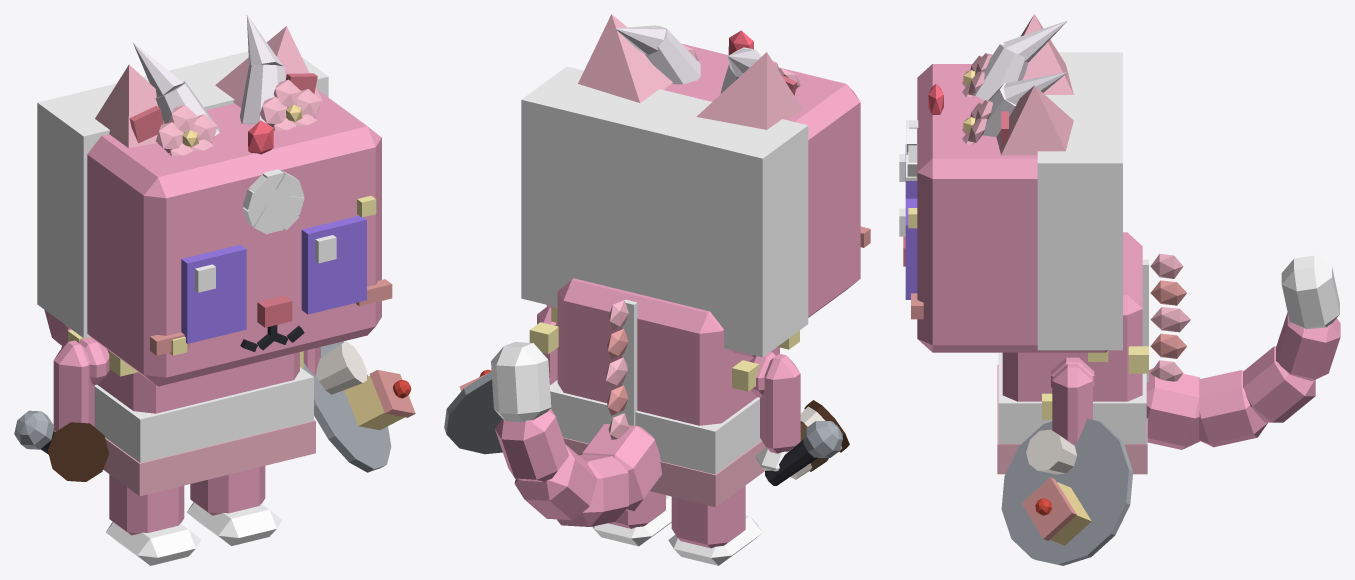
The model's file is CatCafe_Cat_PetalDragon_Work.glb.
The picture shows the model from 3 angles, left to right: view 1: azimuth 30°, elevation 25°; view 2: azimuth 150°, elevation 25°; view 3: azimuth 270°, elevation 25°; orthographic projection. The views are drawn at different scales.
Parts seen in each view (by area): view 1: CatCafe_Cat_PetalDragon_Work_Head, CatCafe_Cat_PetalDragon_Work_Body, CatCafe_Cat_PetalDragon_Work_Prop, CatCafe_Cat_PetalDragon_Work_Held_Waiter, CatCafe_Cat_PetalDragon_Work_Eye1, CatCafe_Cat_PetalDragon_Work_Eye2, CatCafe_Cat_PetalDragon_Work_LegB2, CatCafe_Cat_PetalDragon_Work_LegB1, CatCafe_Cat_PetalDragon_Work_EarR, CatCafe_Cat_PetalDragon_Work_LegF2, CatCafe_Cat_PetalDragon_Work_Held_Barista, CatCafe_Cat_PetalDragon_Work_EarL (+2 smaller); view 2: CatCafe_Cat_PetalDragon_Work_Head, CatCafe_Cat_PetalDragon_Work_Body, CatCafe_Cat_PetalDragon_Work_Tail, CatCafe_Cat_PetalDragon_Work_LegB2, CatCafe_Cat_PetalDragon_Work_EarR, CatCafe_Cat_PetalDragon_Work_EarL, CatCafe_Cat_PetalDragon_Work_LegF2, CatCafe_Cat_PetalDragon_Work_Prop, CatCafe_Cat_PetalDragon_Work_Held_Waiter, CatCafe_Cat_PetalDragon_Work_LegB1, CatCafe_Cat_PetalDragon_Work_Spines_Glow, CatCafe_Cat_PetalDragon_Work_Held_Entertainer (+3 smaller); view 3: CatCafe_Cat_PetalDragon_Work_Head, CatCafe_Cat_PetalDragon_Work_Tail, CatCafe_Cat_PetalDragon_Work_Held_Waiter, CatCafe_Cat_PetalDragon_Work_Body, CatCafe_Cat_PetalDragon_Work_Prop, CatCafe_Cat_PetalDragon_Work_EarL, CatCafe_Cat_PetalDragon_Work_Spines_Glow, CatCafe_Cat_PetalDragon_Work_LegF1, CatCafe_Cat_PetalDragon_Work_EarR, CatCafe_Cat_PetalDragon_Work_Eye1, CatCafe_Cat_PetalDragon_Work_Prop2.
Part boxes in pixels (bbox=[...]): CatCafe_Cat_PetalDragon_Work_Head: bbox=[37, 51, 392, 386]; CatCafe_Cat_PetalDragon_Work_Body: bbox=[68, 330, 315, 496]; CatCafe_Cat_PetalDragon_Work_Prop: bbox=[132, 14, 320, 155]; CatCafe_Cat_PetalDragon_Work_Held_Waiter: bbox=[302, 341, 415, 472]; CatCafe_Cat_PetalDragon_Work_Eye1: bbox=[301, 215, 366, 314]; CatCafe_Cat_PetalDragon_Work_Eye2: bbox=[181, 244, 246, 343]; CatCafe_Cat_PetalDragon_Work_LegB2: bbox=[106, 474, 201, 565]; CatCafe_Cat_PetalDragon_Work_LegB1: bbox=[187, 466, 282, 545]; CatCafe_Cat_PetalDragon_Work_EarR: bbox=[95, 64, 164, 148]; CatCafe_Cat_PetalDragon_Work_LegF2: bbox=[53, 340, 94, 431]; CatCafe_Cat_PetalDragon_Work_Held_Barista: bbox=[47, 422, 109, 481]; CatCafe_Cat_PetalDragon_Work_EarL: bbox=[215, 26, 322, 107]; CatCafe_Cat_PetalDragon_Work_Head: bbox=[521, 43, 870, 357]; CatCafe_Cat_PetalDragon_Work_Body: bbox=[529, 278, 799, 507]; CatCafe_Cat_PetalDragon_Work_Tail: bbox=[491, 342, 661, 526]; CatCafe_Cat_PetalDragon_Work_LegB2: bbox=[668, 485, 762, 565]; CatCafe_Cat_PetalDragon_Work_EarR: bbox=[696, 52, 802, 129]; CatCafe_Cat_PetalDragon_Work_EarL: bbox=[578, 14, 672, 102]; CatCafe_Cat_PetalDragon_Work_LegF2: bbox=[755, 353, 800, 471]; CatCafe_Cat_PetalDragon_Work_Prop: bbox=[615, 25, 800, 93]; CatCafe_Cat_PetalDragon_Work_Held_Waiter: bbox=[444, 369, 502, 454]; CatCafe_Cat_PetalDragon_Work_LegB1: bbox=[592, 491, 671, 546]; CatCafe_Cat_PetalDragon_Work_Spines_Glow: bbox=[605, 300, 628, 439]; CatCafe_Cat_PetalDragon_Work_Held_Entertainer: bbox=[765, 421, 842, 485]; CatCafe_Cat_PetalDragon_Work_Head: bbox=[903, 52, 1122, 352]; CatCafe_Cat_PetalDragon_Work_Tail: bbox=[1146, 255, 1340, 449]; CatCafe_Cat_PetalDragon_Work_Held_Waiter: bbox=[1001, 418, 1133, 565]; CatCafe_Cat_PetalDragon_Work_Body: bbox=[997, 232, 1148, 474]; CatCafe_Cat_PetalDragon_Work_Prop: bbox=[962, 20, 1067, 144]; CatCafe_Cat_PetalDragon_Work_EarL: bbox=[996, 85, 1073, 155]; CatCafe_Cat_PetalDragon_Work_Spines_Glow: bbox=[1150, 253, 1190, 381]; CatCafe_Cat_PetalDragon_Work_LegF1: bbox=[1052, 364, 1092, 444]; CatCafe_Cat_PetalDragon_Work_EarR: bbox=[1020, 14, 1073, 94]; CatCafe_Cat_PetalDragon_Work_Eye1: bbox=[899, 198, 917, 299]; CatCafe_Cat_PetalDragon_Work_Prop2: bbox=[1142, 259, 1148, 382].
Size of the model in its own units: 2 by 2.52 by 2.14.
Materials: 1 (1 with a texture image).
